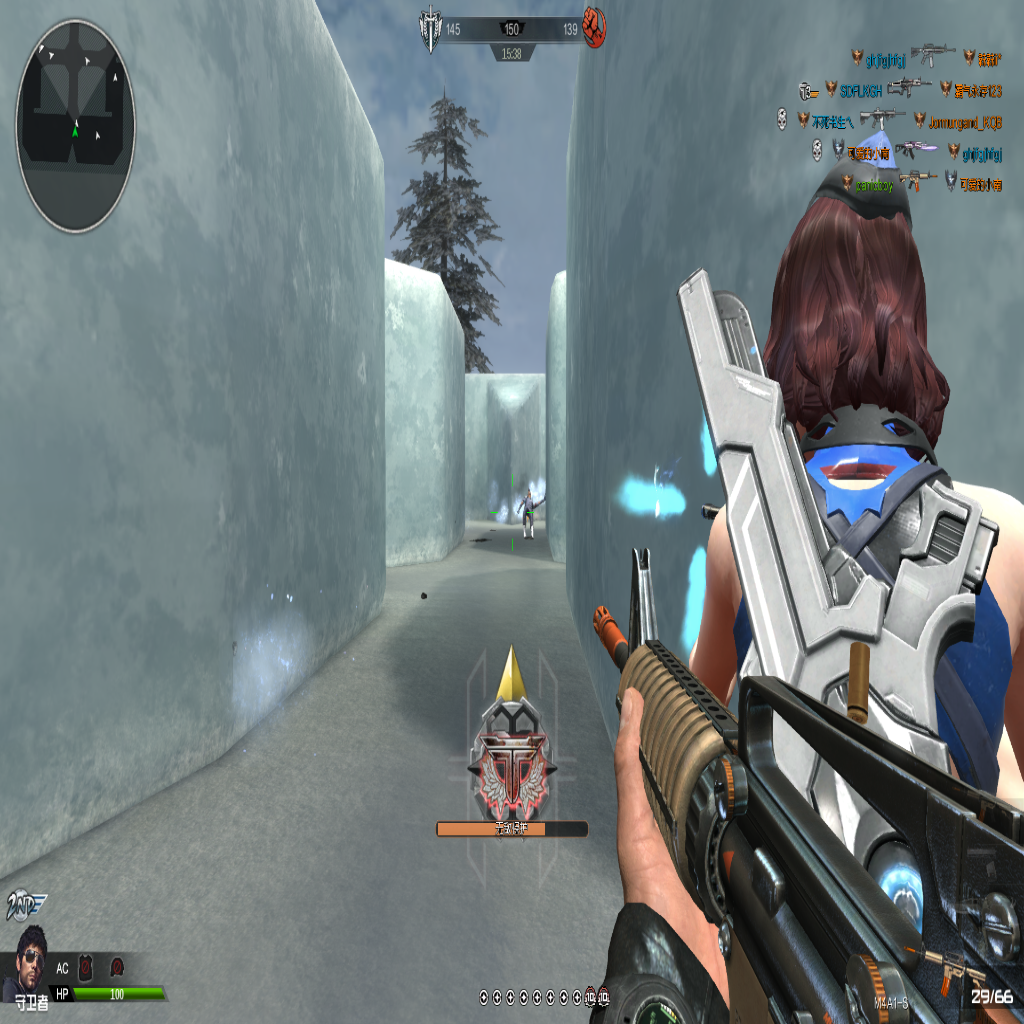ct: (667, 155, 1024, 835)
tt: (522, 484, 538, 538)
